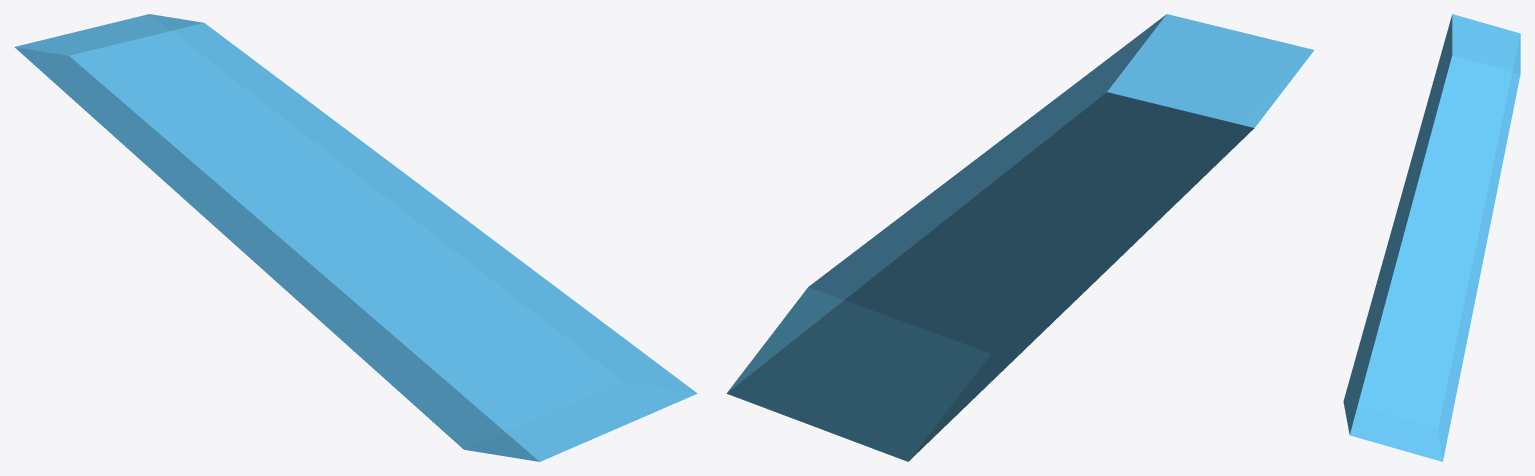
Rendered from Event_421556567_HBrechit_24.fbx.
3 renders of one model, left to right at view 1: azimuth 30°, elevation 25°; view 2: azimuth 150°, elevation 25°; view 3: azimuth 270°, elevation 25°, orthographic. The views are drawn at different scales.
Visible parts, largest first — view 1: Model; view 2: Model; view 3: Model.
Part boxes in pixels (box(x1,y1,x2,y2)): Model: box(14, 14, 697, 461); Model: box(726, 14, 1314, 461); Model: box(1343, 14, 1520, 461).
Size of the model in its own units: 2.2 by 1.85 by 0.9942.
